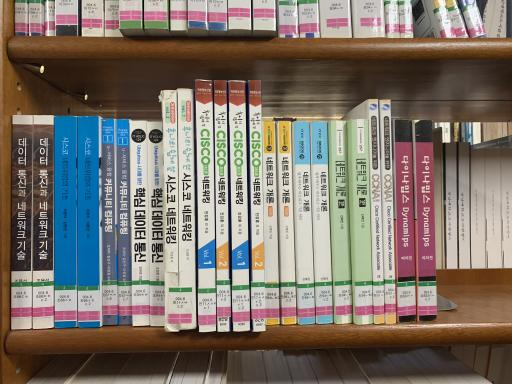book-spine: (228, 81, 250, 331), (197, 80, 217, 332), (54, 116, 77, 327), (177, 89, 197, 330), (10, 115, 32, 329), (330, 121, 353, 325), (394, 119, 417, 323), (293, 122, 316, 325), (78, 116, 100, 328), (351, 119, 373, 325), (311, 121, 333, 324), (415, 120, 437, 321), (129, 120, 150, 326), (33, 115, 53, 328), (163, 90, 180, 331), (277, 121, 297, 325), (214, 80, 230, 332), (249, 80, 265, 332), (368, 99, 385, 325), (115, 119, 133, 325), (262, 121, 280, 325), (380, 100, 396, 324), (101, 119, 118, 326), (147, 122, 164, 326)
